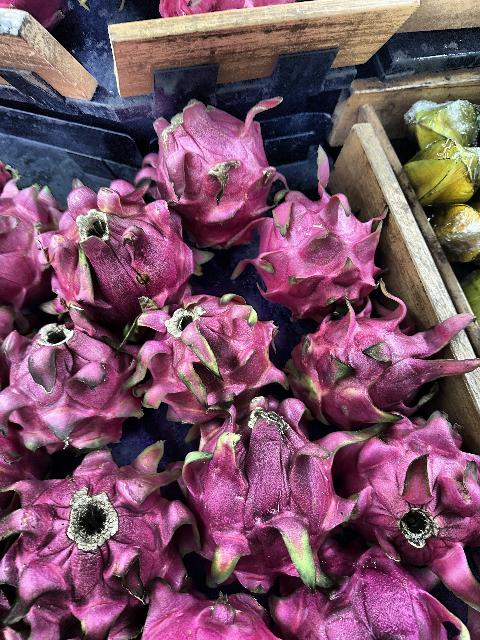buah-naga-matang: (178, 398, 340, 590), (10, 453, 174, 627), (328, 400, 480, 562), (47, 183, 199, 317), (140, 98, 278, 245), (278, 538, 470, 640), (288, 292, 454, 408), (3, 307, 130, 449), (248, 180, 376, 316), (129, 302, 281, 402), (131, 580, 279, 640), (0, 167, 50, 306)
